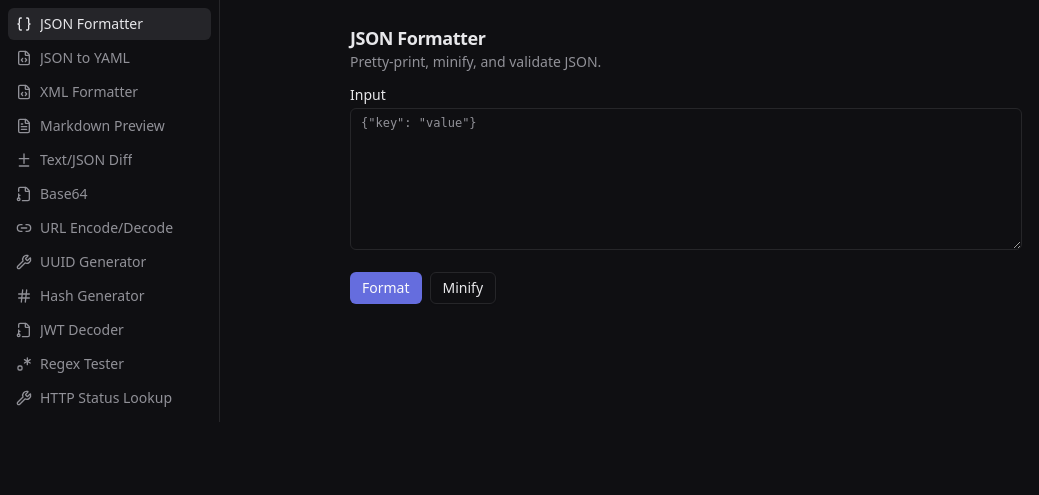
Test case: Base64 tool › round-trips through the Encode and Decode buttons
Click the button "Base64": click(110, 194) [8,178,211,210]
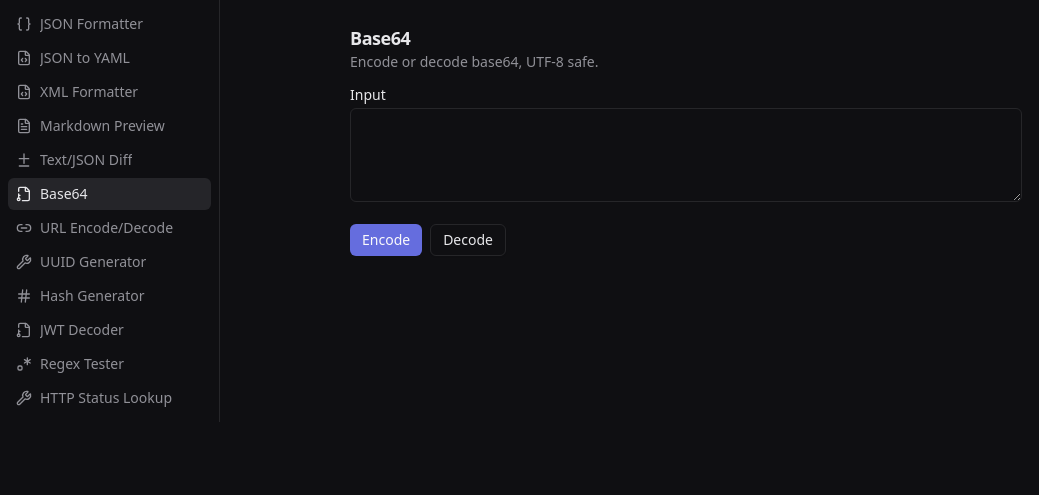
In the text box labelled "Input": (686, 155) [350,108,1022,202], type "hello"
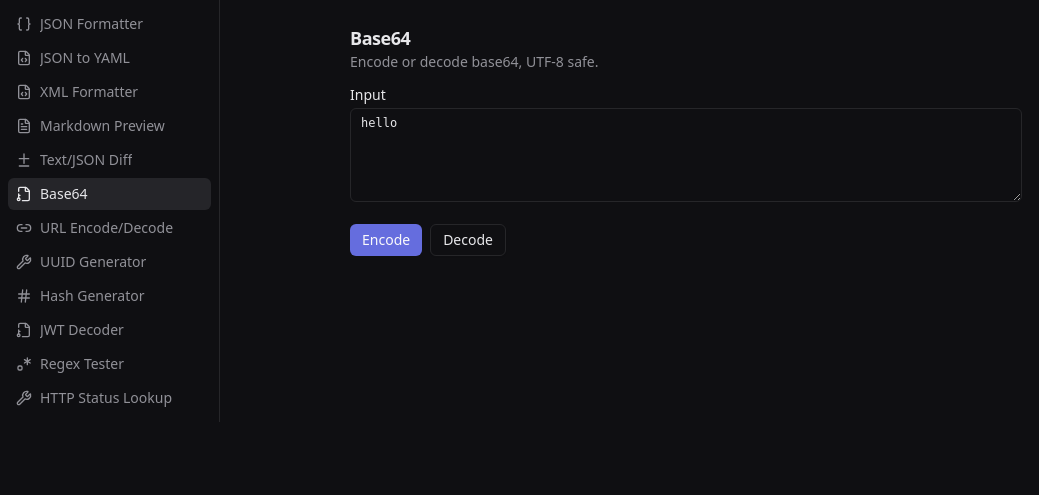
Click the button "Encode": click(386, 240) [350,224,422,256]
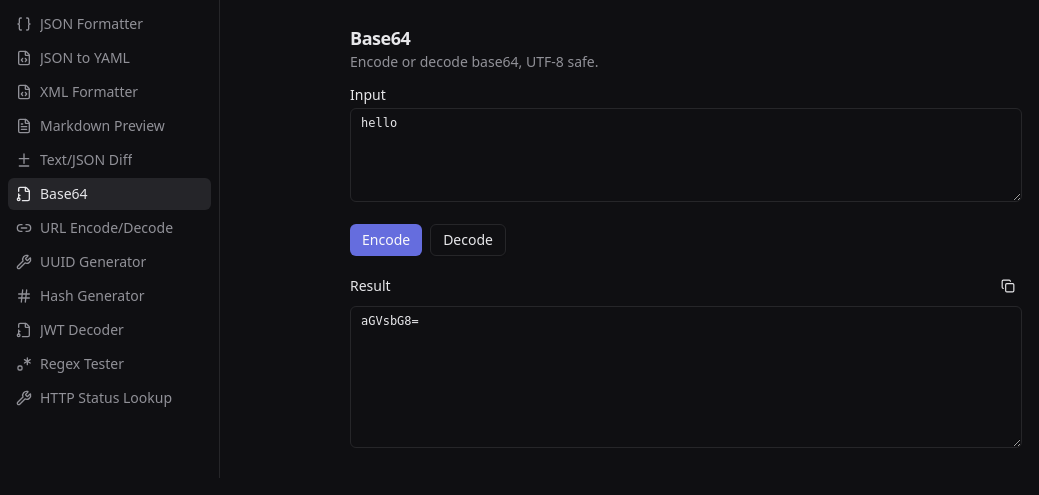
Now the text box labelled "Result" holds "aGVsbG8=", box [350,306,1022,448]
Replace the text in the text box labelled "Input" with "aGVsbG8=": (686, 155) [350,108,1022,202]
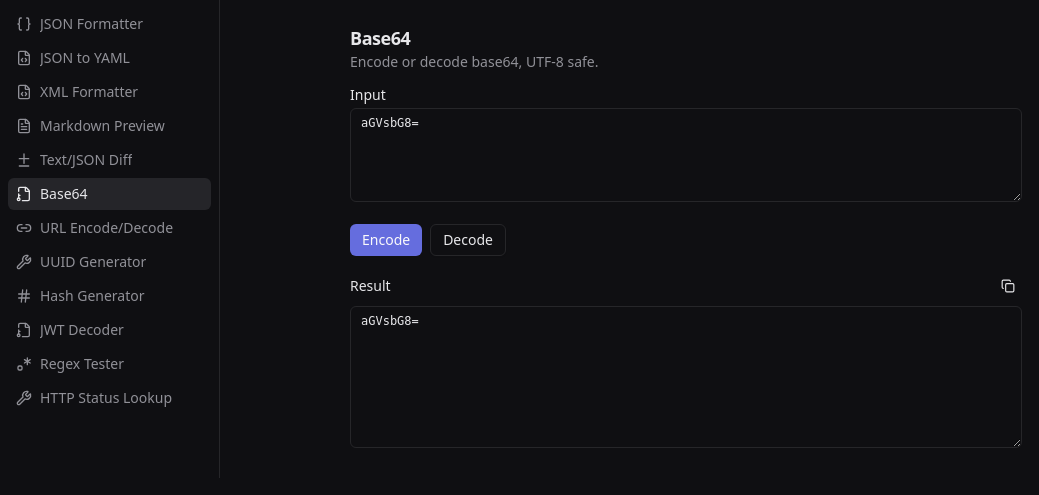
Click the button "Decode": click(468, 240) [430,224,506,256]
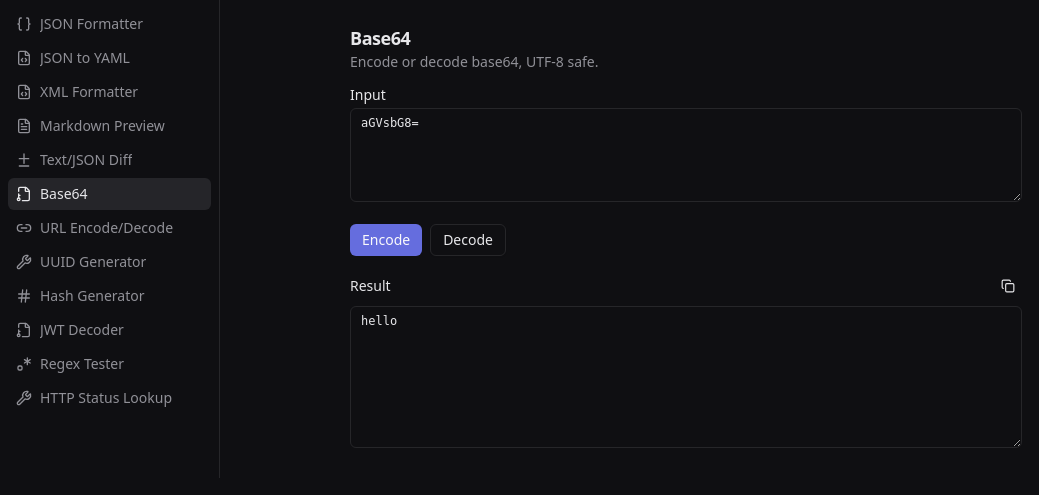
Now the text box labelled "Result" holds "hello", box [350,306,1022,448]
